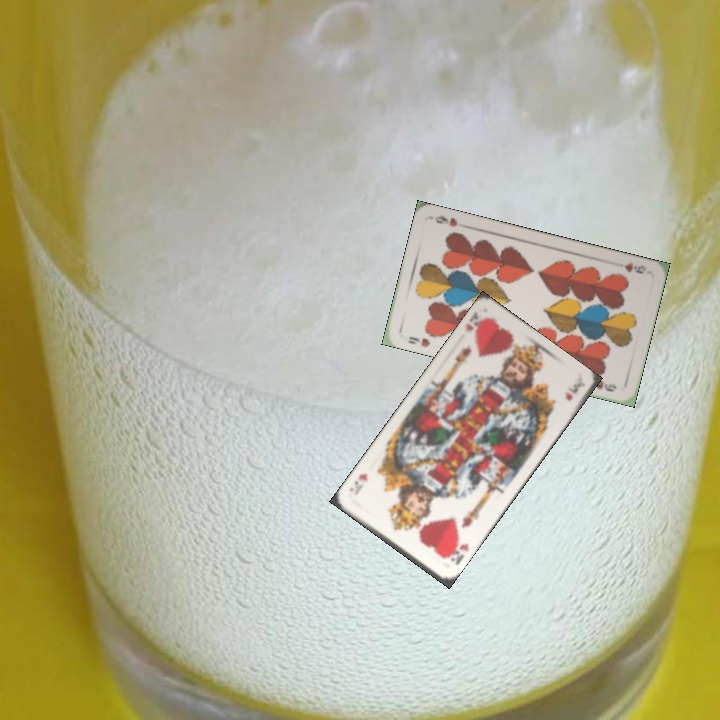H9: (620, 258, 649, 277), (404, 332, 432, 350)
HK: (441, 534, 471, 568), (461, 307, 486, 341)
